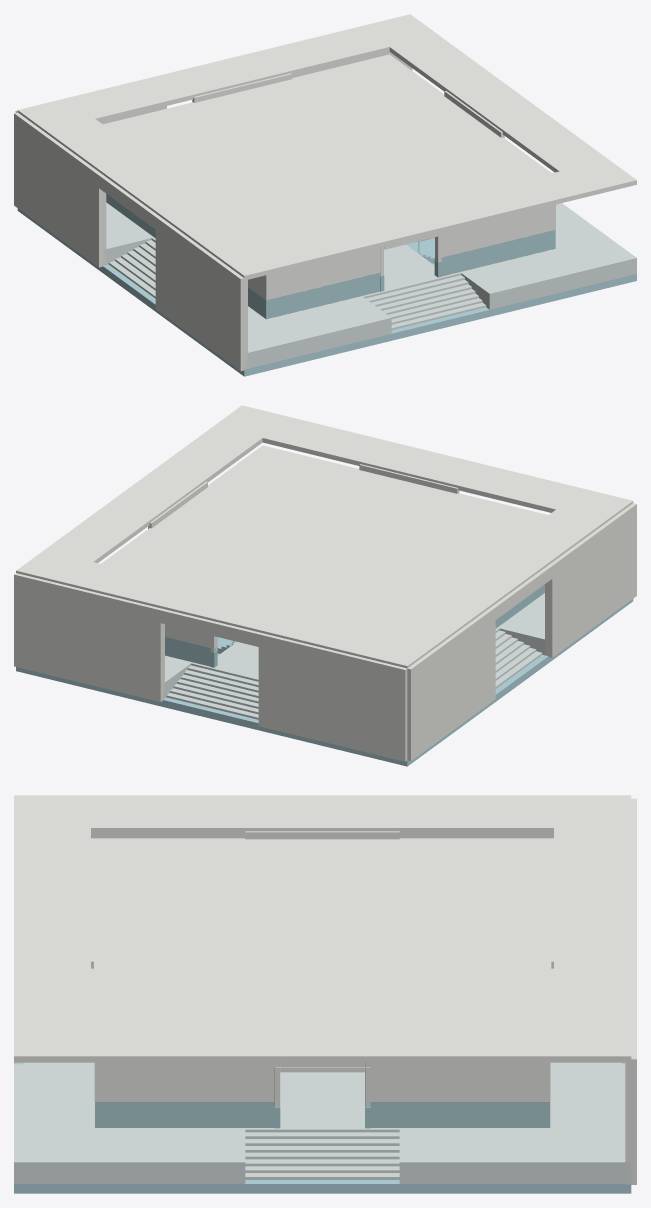
File: low_arched_bath.glb
3 renders of one model, top to bottom at view 1: azimuth 30°, elevation 25°; view 2: azimuth 150°, elevation 25°; view 3: azimuth 270°, elevation 25°, orthographic. The views are drawn at different scales.
Parts seen in each view (by area): view 1: VIS_formal_plaster, VIS_formal_dry_deck, VIS_formal_wainscot, VIS_formal_basin; view 2: VIS_formal_plaster, VIS_formal_dry_deck, VIS_formal_basin, VIS_formal_wainscot; view 3: VIS_formal_plaster, VIS_formal_dry_deck, VIS_formal_wainscot, VIS_formal_basin.
Part boxes in pixels (x1,y1,x2,y2): VIS_formal_plaster: (14, 14, 636, 371); VIS_formal_dry_deck: (102, 202, 636, 369); VIS_formal_wainscot: (106, 194, 555, 319); VIS_formal_basin: (17, 208, 636, 376); VIS_formal_plaster: (14, 405, 636, 761); VIS_formal_dry_deck: (163, 593, 544, 719); VIS_formal_basin: (16, 599, 633, 766); VIS_formal_wainscot: (165, 584, 544, 667); VIS_formal_plaster: (14, 795, 636, 1184); VIS_formal_dry_deck: (14, 1062, 631, 1183); VIS_formal_wainscot: (95, 1102, 550, 1128); VIS_formal_basin: (14, 1062, 631, 1193).
Size of what is drawn, in the model's own units: 32.3 by 7.85 by 32.3.
